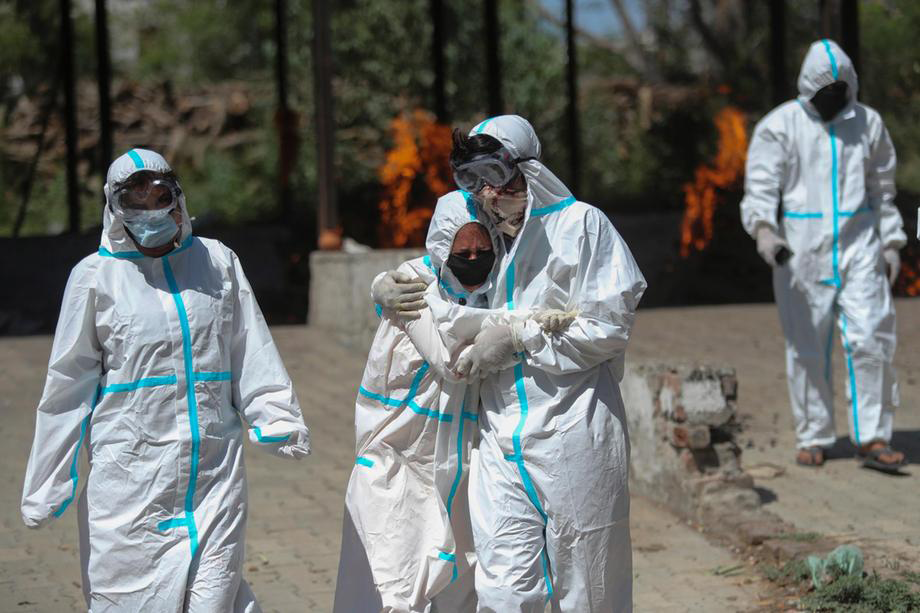Coverall: (67, 245, 262, 613), (469, 197, 630, 613), (764, 89, 901, 446), (350, 292, 474, 613)
Gloves: (456, 320, 520, 380), (367, 267, 430, 321)
Goggles: (448, 152, 529, 201), (103, 177, 187, 219)
with_mask: (125, 189, 179, 255), (452, 240, 496, 290)
